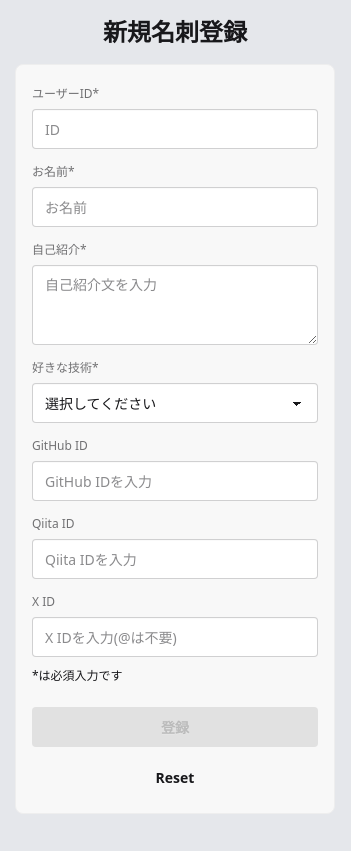
新規登録ページ › 名前がない時にエラーメッセージがでる
Step 1. Click the field with placeholder "お名前" → (175, 207), box [32,187,318,227]
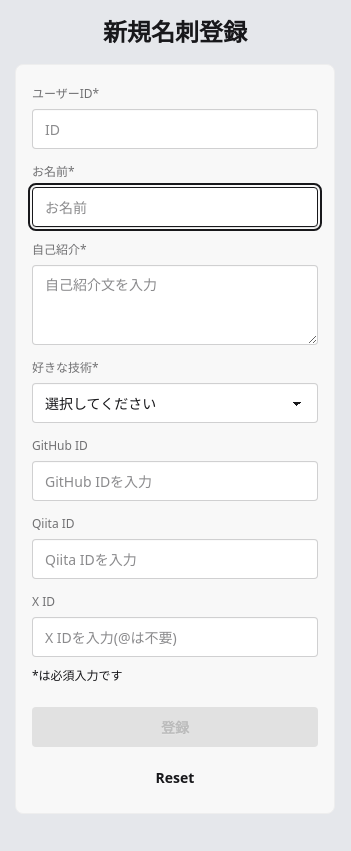
Step 2. Press Tab
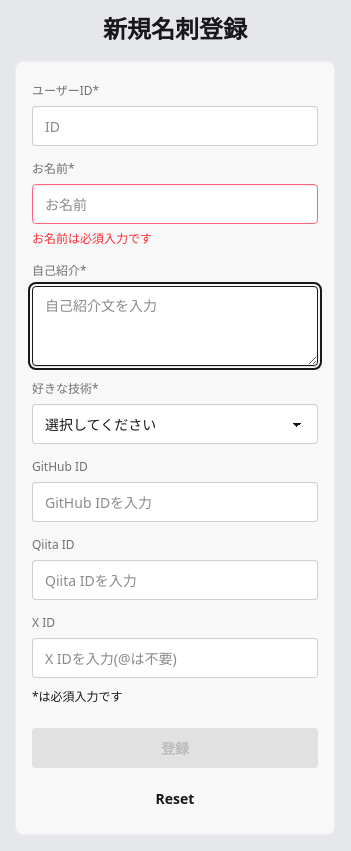
Expected: the text "お名前は必須入力です" is shown, [32,230,152,247]
